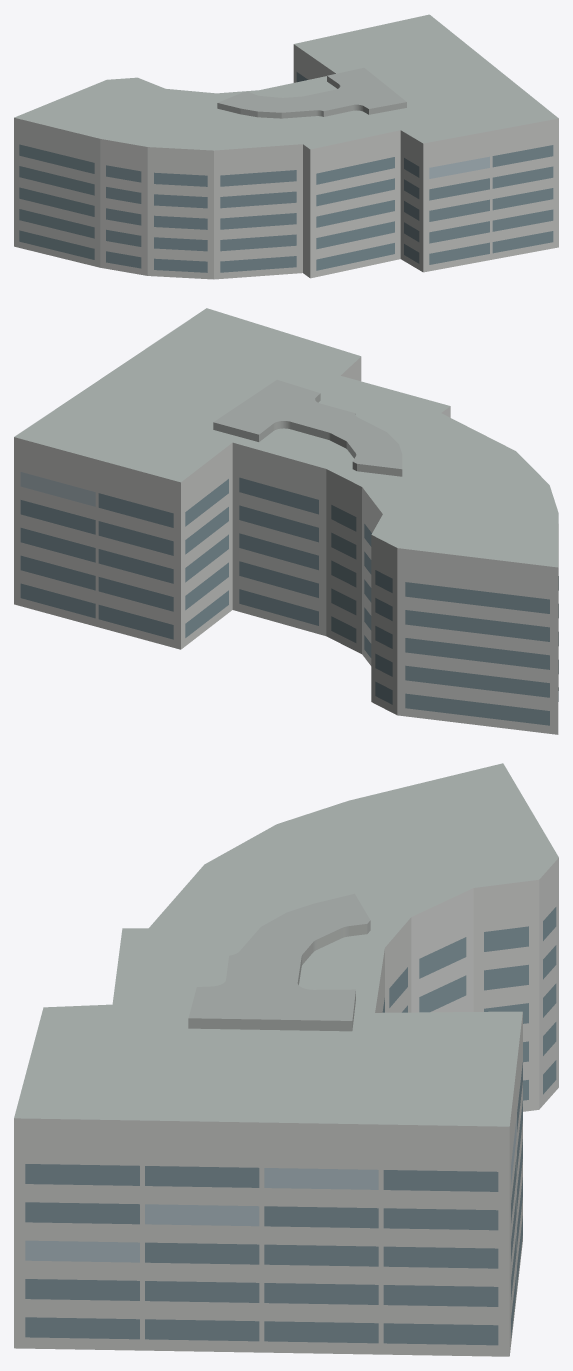
Rendered from named-apt-9d56cc2b-cae8-4eef-b7b5-f128791c30b1.glb.
3 renders of one model, top to bottom at view 1: azimuth 30°, elevation 25°; view 2: azimuth 150°, elevation 25°; view 3: azimuth 270°, elevation 25°, orthographic. The views are drawn at different scales.
Visible parts, largest first — view 1: named-apt-9d56cc2b-cae8-4eef-b7b5-f128791c30b1; view 2: named-apt-9d56cc2b-cae8-4eef-b7b5-f128791c30b1; view 3: named-apt-9d56cc2b-cae8-4eef-b7b5-f128791c30b1.
Boxes of the visible parts, x1,y1,x2,y2 form: named-apt-9d56cc2b-cae8-4eef-b7b5-f128791c30b1: [14, 14, 558, 279]; named-apt-9d56cc2b-cae8-4eef-b7b5-f128791c30b1: [14, 308, 558, 734]; named-apt-9d56cc2b-cae8-4eef-b7b5-f128791c30b1: [14, 763, 558, 1356].
Size of the model in its own units: 62.01 by 19.12 by 39.28.
